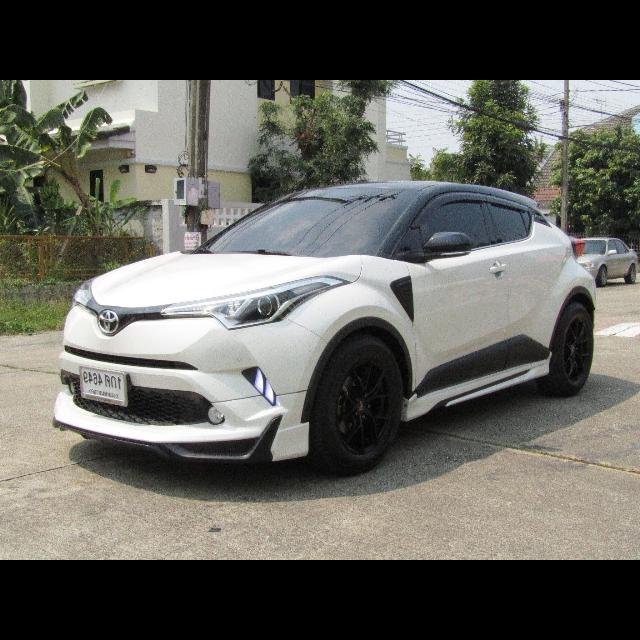cars: (46, 172, 604, 482)
